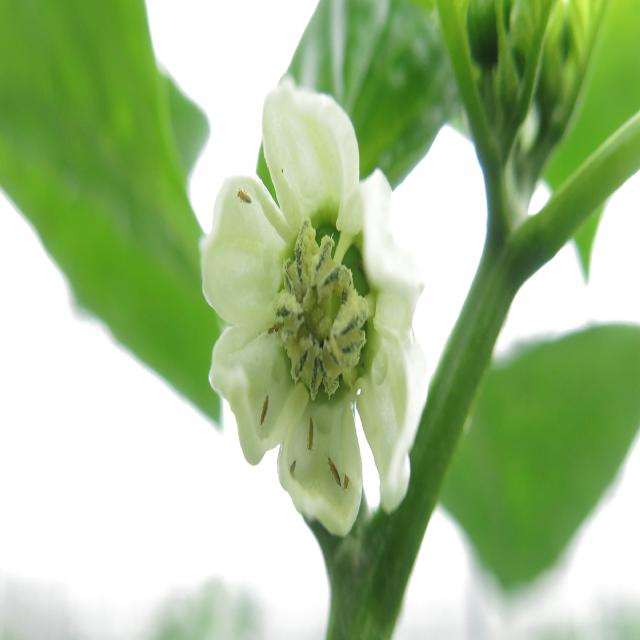Thrip-Larva-: (255, 387, 273, 435), (231, 184, 257, 212), (322, 450, 342, 486), (307, 412, 315, 458), (287, 459, 298, 479)
